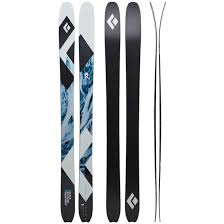skis: (57, 1, 95, 224), (104, 3, 142, 224)
